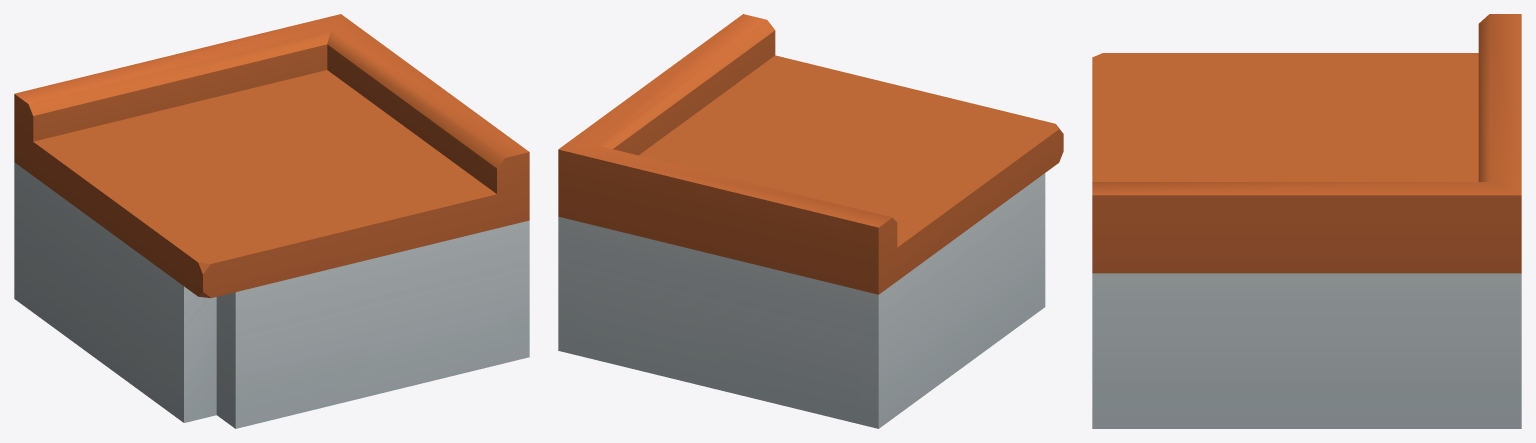
Rendered from kaykit-restaurant-bits-kitchencounter-innercorner-backsplash.glb.
3 renders of one model, left to right at view 1: azimuth 30°, elevation 25°; view 2: azimuth 150°, elevation 25°; view 3: azimuth 270°, elevation 25°, orthographic. The views are drawn at different scales.
Visible parts, largest first — view 1: kitchencounter_innercorner_backsplash; view 2: kitchencounter_innercorner_backsplash; view 3: kitchencounter_innercorner_backsplash.
Part boxes in pixels (x1,y1,x2,y2): kitchencounter_innercorner_backsplash: (14, 14, 529, 428); kitchencounter_innercorner_backsplash: (558, 14, 1063, 428); kitchencounter_innercorner_backsplash: (1092, 14, 1521, 428).
Size of the model in its own units: 2 by 1.2 by 2.
1 material, 1 textured.
